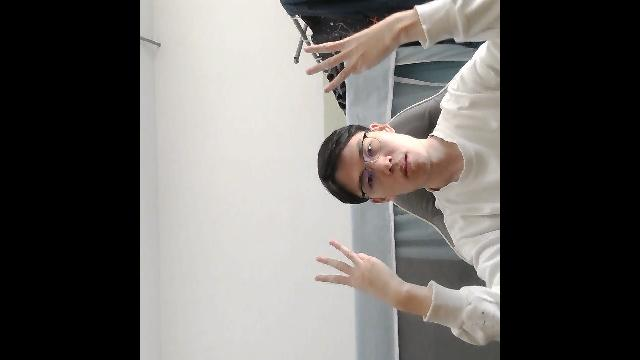three: (302, 14, 405, 95), (312, 238, 398, 303)
